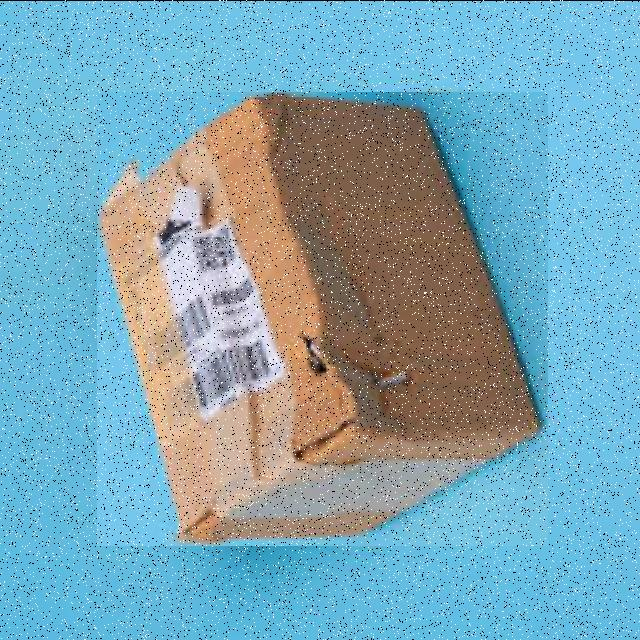defect: (97, 90, 548, 544)
